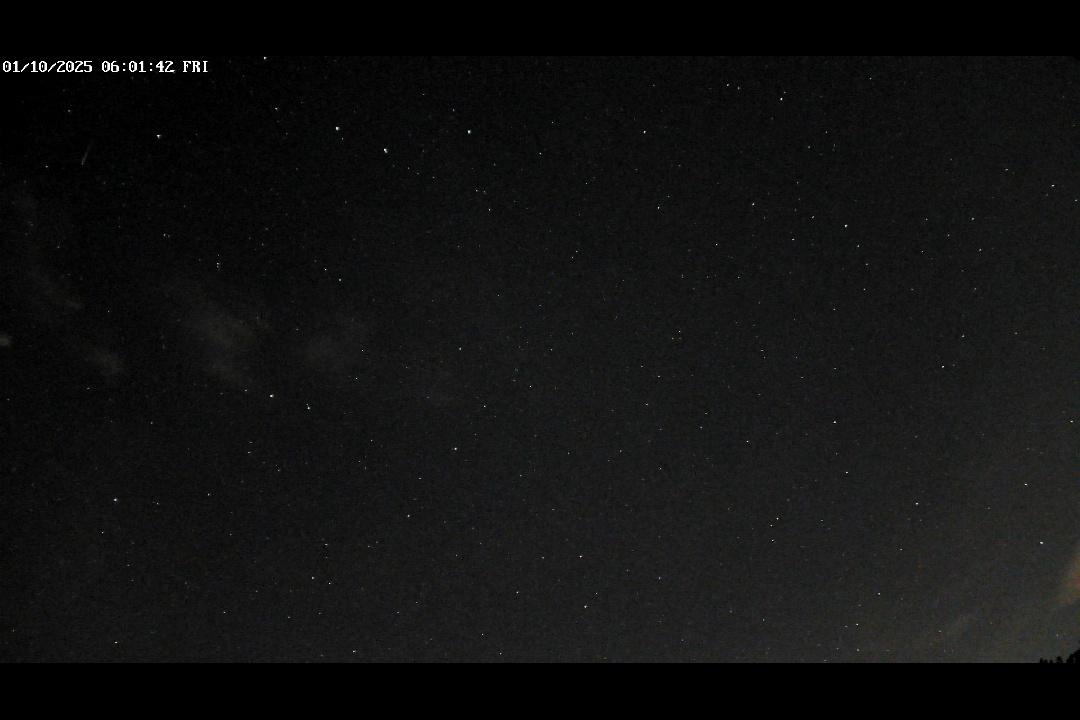Plane: (77, 143, 96, 168)
